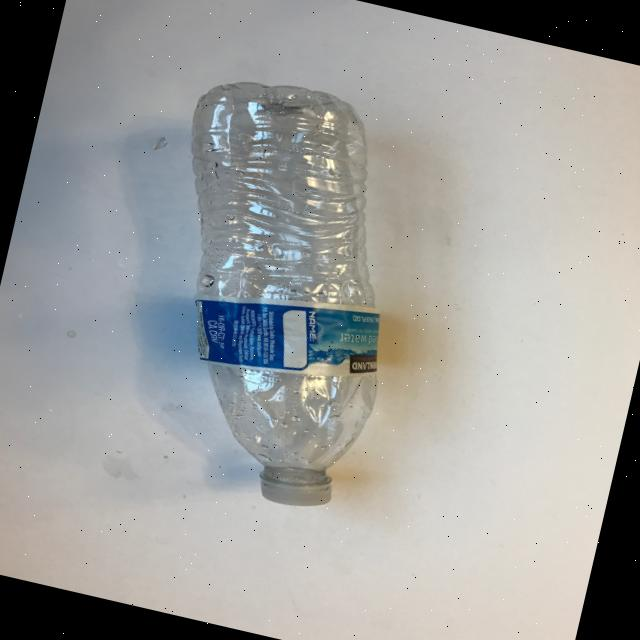plastic: (110, 62, 442, 518)
